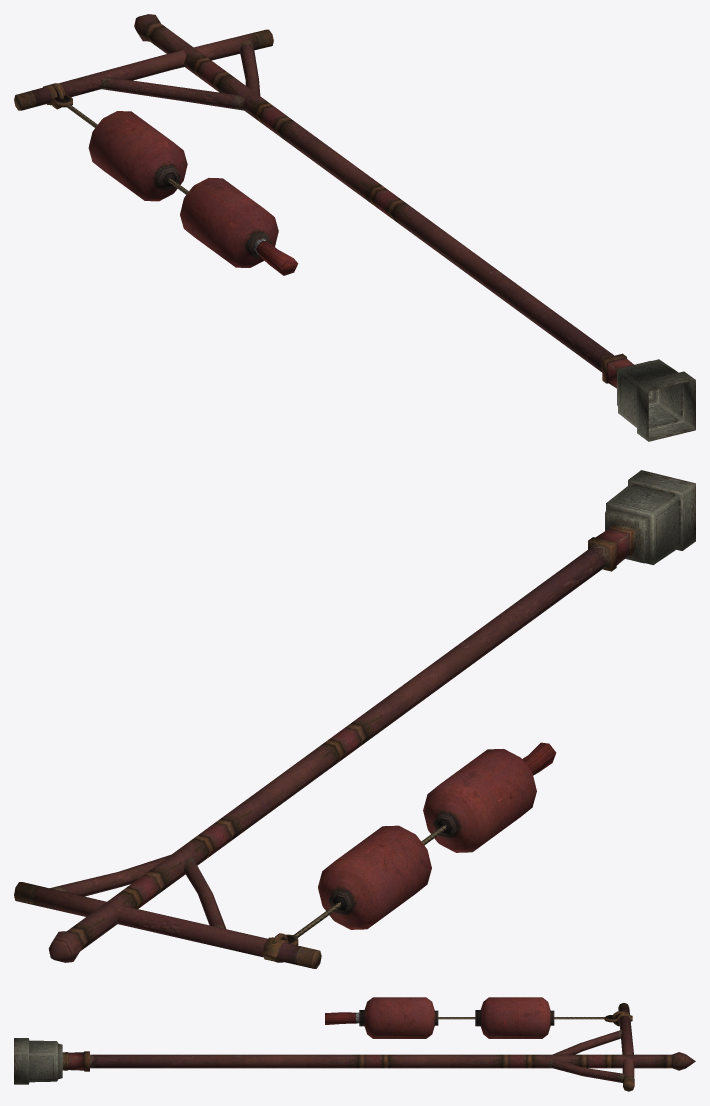
Rendered from denglong.FBX.
3 views of the same model, one above another, from view 1: azimuth 30°, elevation 25°; view 2: azimuth 150°, elevation 25°; view 3: azimuth 270°, elevation 25° (orthographic). The views are drawn at different scales.
Parts seen in each view (by area): view 1: Mesh_0740; view 2: Mesh_0740; view 3: Mesh_0740.
Part boxes in pixels (x1,y1,x2,y2): Mesh_0740: (14, 14, 695, 441); Mesh_0740: (14, 470, 695, 968); Mesh_0740: (14, 997, 695, 1091).
Size of the model in its own units: 3.54 by 0.7941 by 12.89.
1 material, 1 textured.
